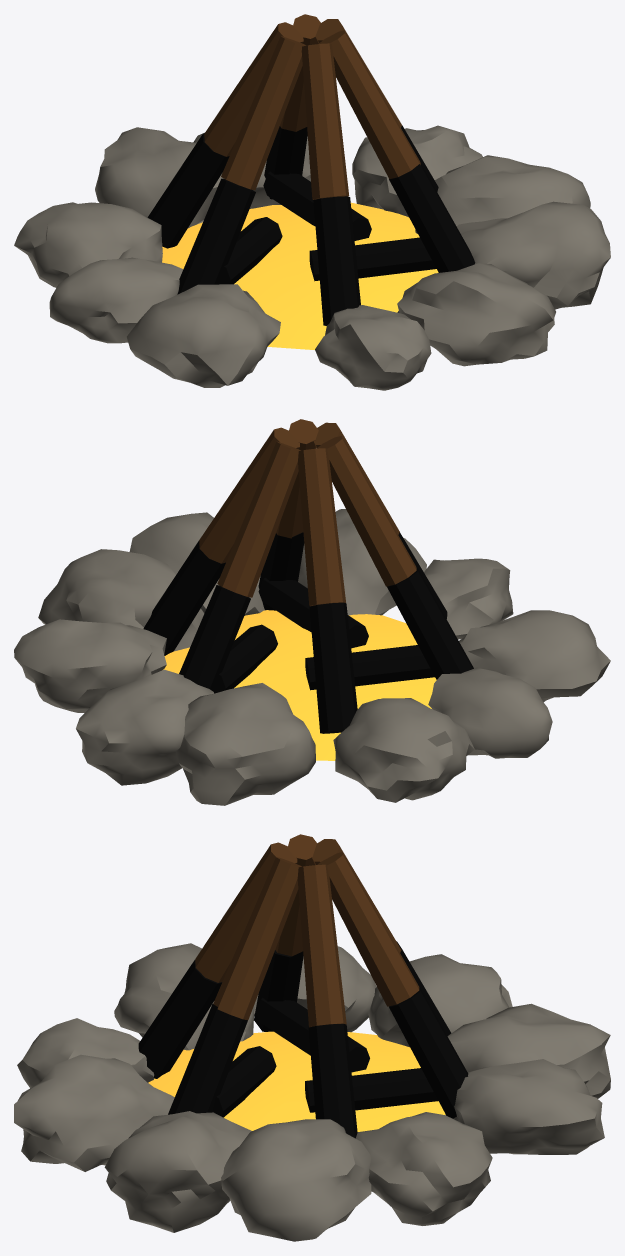
Rendered from lagerfeuer.glb.
The picture shows the model from 3 angles, top to bottom: view 1: azimuth 30°, elevation 25°; view 2: azimuth 150°, elevation 25°; view 3: azimuth 270°, elevation 25°; orthographic projection. The views are drawn at different scales.
Parts seen in each view (by area): view 1: lagerfeuer; view 2: lagerfeuer; view 3: lagerfeuer.
Part boxes in pixels (x1=…): lagerfeuer: x1=14, y1=14, x2=610, y2=390; lagerfeuer: x1=14, y1=419, x2=610, y2=805; lagerfeuer: x1=14, y1=834, x2=610, y2=1241.
Bounding box in the file's own units: 1.33 × 0.6789 × 1.29.
